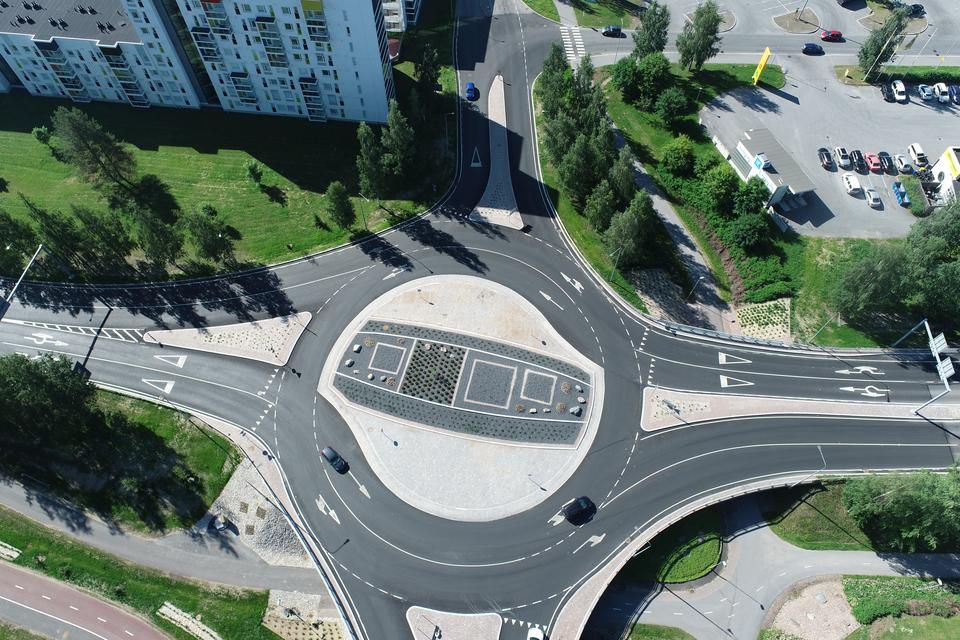intersection: (443, 10, 613, 92)
roundabout: (238, 187, 674, 640)
